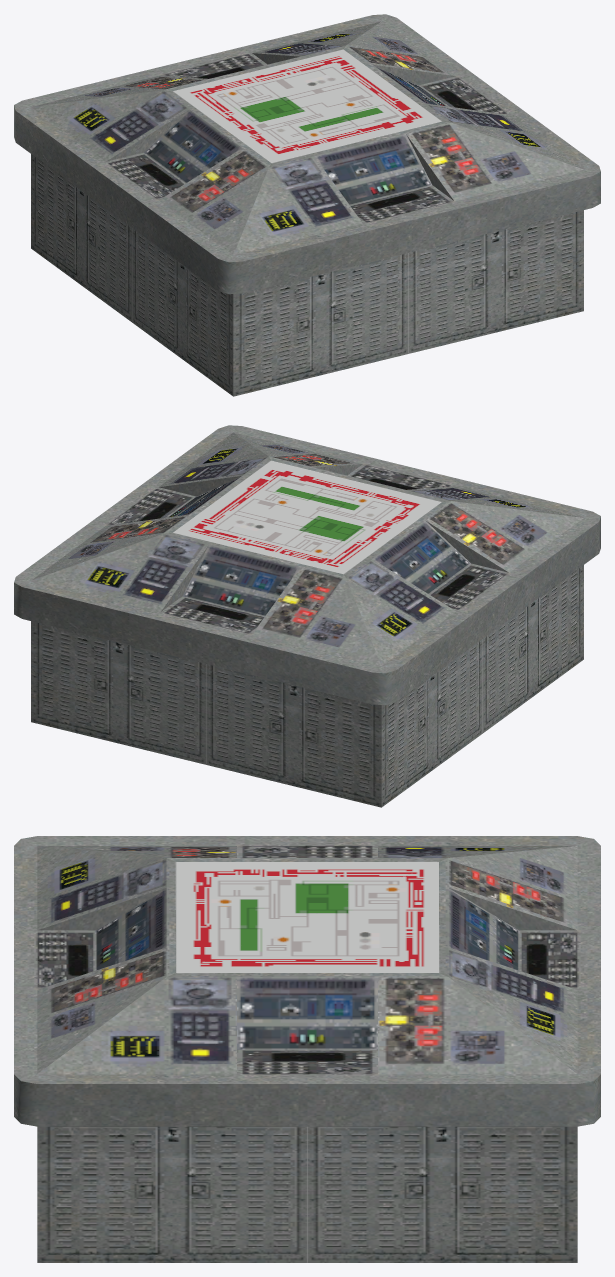
The model's file is frn_tech_console_table_l1.fbx.
3 renders of one model, top to bottom at view 1: azimuth 30°, elevation 25°; view 2: azimuth 150°, elevation 25°; view 3: azimuth 270°, elevation 25°, orthographic. The views are drawn at different scales.
Visible parts, largest first — view 1: mesh_node; view 2: mesh_node; view 3: mesh_node.
Part boxes in pixels (box(x1,y1,x2,y2)): mesh_node: box(14, 14, 600, 396); mesh_node: box(14, 425, 600, 807); mesh_node: box(14, 836, 600, 1262).
Bounding box in the file's own units: 2.5 × 1.09 × 2.5.
